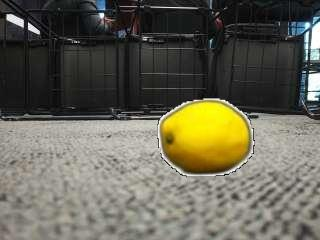lemon: (161, 100, 250, 173)
